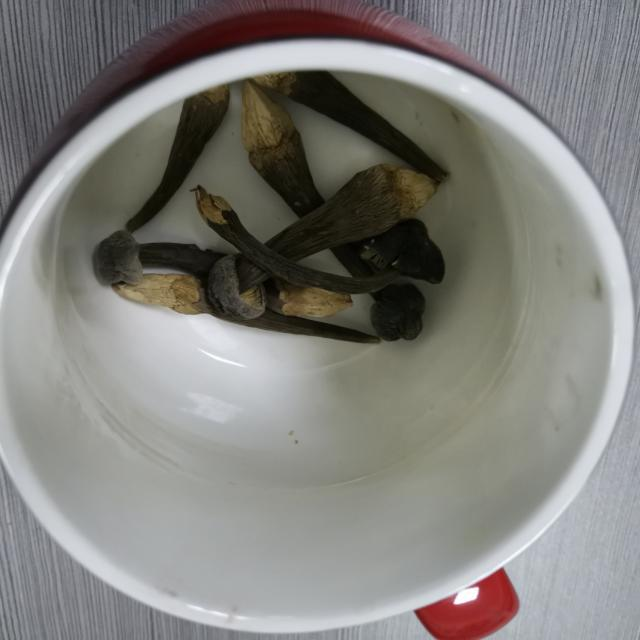Collybia albuminosa: (95, 78, 451, 341)
